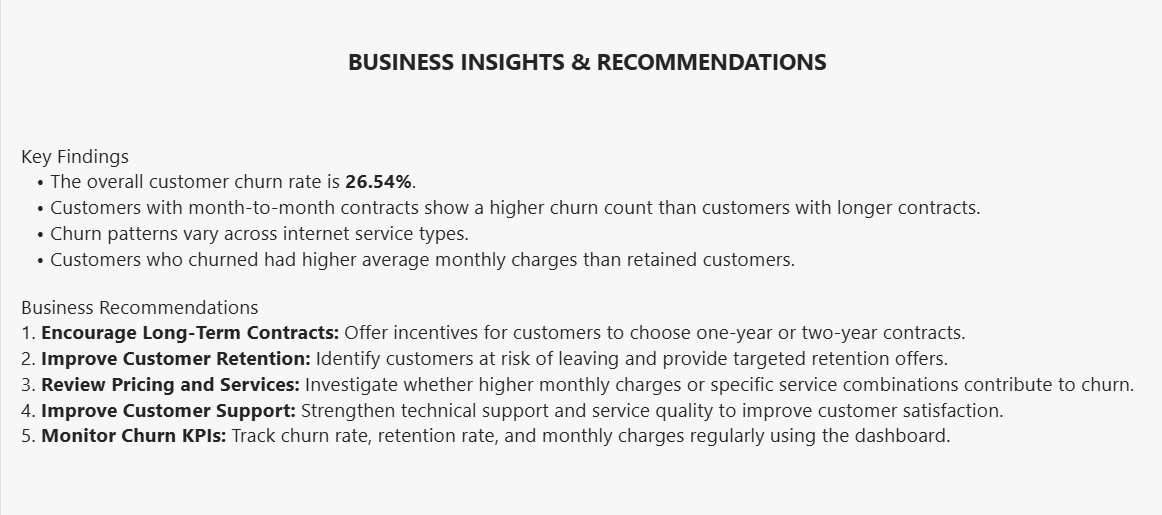

This screenshot's page, from the dashboard's own definition file:
{"tool":"powerbi","page":{"name":"Business Recommendations","canvas":[1920,1080],"ordinal":2},"visuals":[{"type":"textbox","box":[10.3,78.2,1910.1,78.2],"z":0},{"type":"textbox","box":[32.9,236.7,1887.5,640.1],"z":1}]}

Visuals, with their boxes on the page's 1920x1080 design canvas (x1, y1, x2, y2). These are canvas units, not pixel positions in the 1162x515 screenshot, which may show the page scaled, cropped or inside an application window:
textbox: rect(10, 78, 1920, 156)
textbox: rect(33, 237, 1920, 877)
